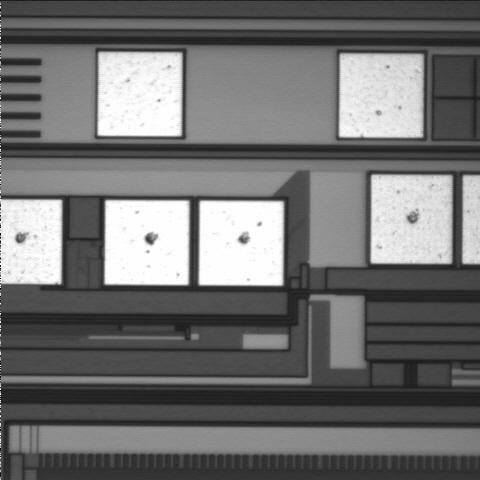pad: (199, 201, 284, 286), (371, 175, 452, 264), (105, 200, 189, 285), (98, 52, 182, 136), (339, 54, 423, 138)
